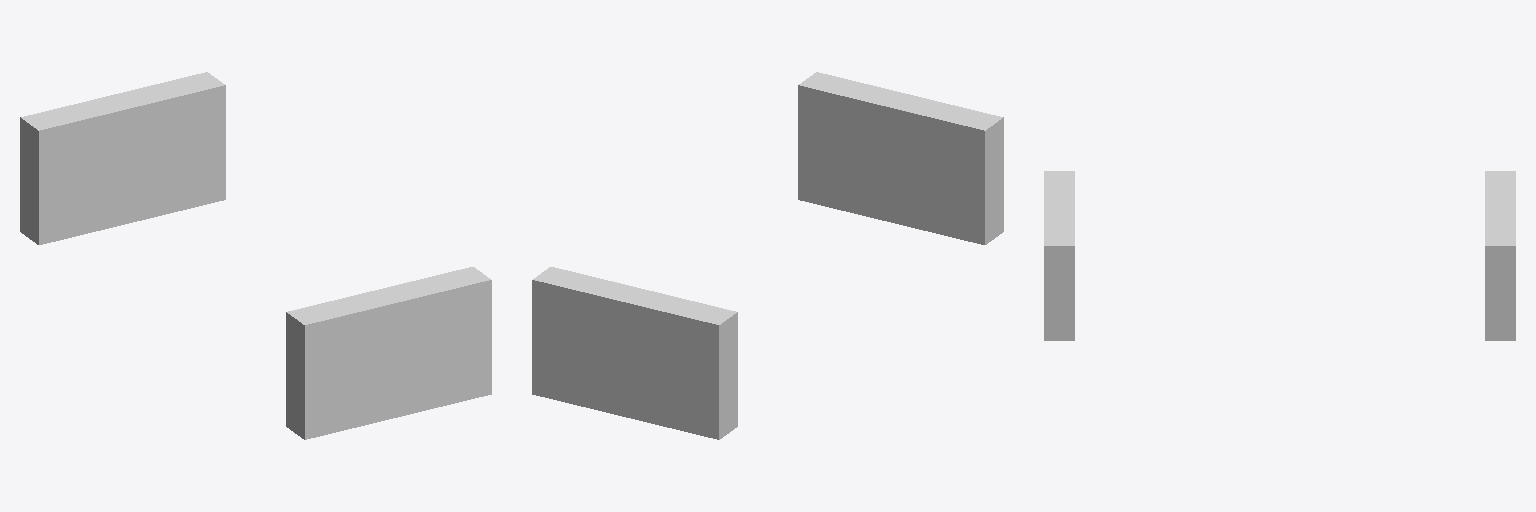
robot.urdf — panda:
<?xml version="1.0" ?>
<!-- =================================================================================== -->
<!-- |    This document was autogenerated by xacro from panda_arm.urdf.xacro           | -->
<!-- |    EDITING THIS FILE BY HAND IS NOT RECOMMENDED                                 | -->
<!-- =================================================================================== -->
<robot name="panda">
  <link name="panda_link0">
    <visual>
      <geometry>
        <mesh filename="franka_description/meshes/visual/link0.glb"/>
      </geometry>
    </visual>
    <collision>
      <geometry>
        <mesh filename="franka_description/meshes/collision/link0.stl"/>
      </geometry>
    </collision>
    <inertial>
      <origin rpy="0 0 0" xyz="-0.041018 -0.00014 0.049974"/>
      <mass value="0.629769"/>
      <inertia ixx="0.00315" ixy="8.2904e-07" ixz="0.00015" iyy="0.00388" iyz="8.2299e-06" izz="0.004285"/>
    </inertial>
  </link>
  <link name="panda_link1">
    <visual>
      <geometry>
        <mesh filename="franka_description/meshes/visual/link1.glb"/>
      </geometry>
    </visual>
    <collision>
      <geometry>
        <mesh filename="franka_description/meshes/collision/link1.stl"/>
      </geometry>
    </collision>
    <inertial>
      <origin rpy="0 0 0" xyz="0.003875 0.002081 -0.04762"/>
      <mass value="4.970684"/>
      <inertia ixx="0.70337" ixy="-0.000139" ixz="0.006772" iyy="0.70661" iyz="0.019169" izz="0.009117"/>
    </inertial>
  </link>
  <joint name="panda_joint1" type="revolute">
    <safety_controller k_position="100.0" k_velocity="40.0" soft_lower_limit="-2.8973" soft_upper_limit="2.8973"/>
    <origin rpy="0 0 0" xyz="0 0 0.333"/>
    <parent link="panda_link0"/>
    <child link="panda_link1"/>
    <axis xyz="0 0 1"/>
    <limit effort="87" lower="-2.8973" upper="2.8973" velocity="2.1750"/>
    <dynamics D="1" K="7000" damping="0.003" friction="0.0" mu_coulomb="0" mu_viscous="16"/>
  </joint>
  <link name="panda_link2">
    <visual>
      <geometry>
        <mesh filename="franka_description/meshes/visual/link2.glb"/>
      </geometry>
    </visual>
    <collision>
      <geometry>
        <mesh filename="franka_description/meshes/collision/link2.stl"/>
      </geometry>
    </collision>
    <inertial>
      <origin rpy="0 0 0" xyz="-0.003141 -0.02872  0.003495"/>
      <mass value="0.646926"/>
      <inertia ixx="0.007962" ixy="-0.003925" ixz="0.010254" iyy="0.02811" iyz="0.000704" izz="0.025995"/>
    </inertial>
  </link>
  <joint name="panda_joint2" type="revolute">
    <safety_controller k_position="100.0" k_velocity="40.0" soft_lower_limit="-1.7628" soft_upper_limit="1.7628"/>
    <origin rpy="-1.5707963267948966 0 0" xyz="0 0 0"/>
    <parent link="panda_link1"/>
    <child link="panda_link2"/>
    <axis xyz="0 0 1"/>
    <limit effort="87" lower="-1.7628" upper="1.7628" velocity="2.1750"/>
    <dynamics D="1" K="7000" damping="0.003" friction="0.0" mu_coulomb="0" mu_viscous="16"/>
  </joint>
  <link name="panda_link3">
    <visual>
      <geometry>
        <mesh filename="franka_description/meshes/visual/link3.glb"/>
      </geometry>
    </visual>
    <collision>
      <geometry>
        <mesh filename="franka_description/meshes/collision/link3.stl"/>
      </geometry>
    </collision>
    <inertial>
      <origin rpy="0 0 0" xyz="2.7518e-02 3.9252e-02 -6.6502e-02"/>
      <mass value="3.228604"/>
      <inertia ixx="0.037242" ixy="-0.004761" ixz="-0.011396" iyy="0.036155" iyz="-0.012805" izz="0.01083"/>
    </inertial>
  </link>
  <joint name="panda_joint3" type="revolute">
    <safety_controller k_position="100.0" k_velocity="40.0" soft_lower_limit="-2.8973" soft_upper_limit="2.8973"/>
    <origin rpy="1.5707963267948966 0 0" xyz="0 -0.316 0"/>
    <parent link="panda_link2"/>
    <child link="panda_link3"/>
    <axis xyz="0 0 1"/>
    <limit effort="87" lower="-2.8973" upper="2.8973" velocity="2.1750"/>
    <dynamics D="1" K="7000" damping="0.003" friction="0.0" mu_coulomb="0" mu_viscous="16"/>
  </joint>
  <link name="panda_link4">
    <visual>
      <geometry>
        <mesh filename="franka_description/meshes/visual/link4.glb"/>
      </geometry>
    </visual>
    <collision>
      <geometry>
        <mesh filename="franka_description/meshes/collision/link4.stl"/>
      </geometry>
    </collision>
    <inertial>
      <origin rpy="0 0 0" xyz="-5.317e-02 1.04419e-01 2.7454e-02"/>
      <mass value="3.587895"/>
      <inertia ixx="0.025853" ixy="0.007796" ixz="-0.001332" iyy="0.019552" iyz="0.008641" izz="0.028323"/>
    </inertial>
  </link>
  <joint name="panda_joint4" type="revolute">
    <safety_controller k_position="100.0" k_velocity="40.0" soft_lower_limit="-3.0718" soft_upper_limit="-0.0698"/>
    <origin rpy="1.5707963267948966 0 0" xyz="0.0825 0 0"/>
    <parent link="panda_link3"/>
    <child link="panda_link4"/>
    <axis xyz="0 0 1"/>
    <limit effort="87" lower="-3.0718" upper="-0.0698" velocity="2.1750"/>
    <dynamics D="1" K="7000" damping="0.003" friction="0.0" mu_coulomb="0" mu_viscous="16"/>
  </joint>
  <link name="panda_link5">
    <visual>
      <geometry>
        <mesh filename="franka_description/meshes/visual/link5.glb"/>
      </geometry>
    </visual>
    <collision>
      <geometry>
        <mesh filename="franka_description/meshes/collision/link5.stl"/>
      </geometry>
    </collision>
    <inertial>
      <origin rpy="0 0 0" xyz="-1.1953e-02 4.1065e-02 -3.8437e-02"/>
      <mass value="1.225946"/>
      <inertia ixx="0.035549" ixy="-0.002117" ixz="-0.004037" iyy="0.029474" iyz="0.000229" izz="0.008627"/>
    </inertial>
  </link>
  <joint name="panda_joint5" type="revolute">
    <safety_controller k_position="100.0" k_velocity="40.0" soft_lower_limit="-2.8973" soft_upper_limit="2.8973"/>
    <origin rpy="-1.5707963267948966 0 0" xyz="-0.0825 0.384 0"/>
    <parent link="panda_link4"/>
    <child link="panda_link5"/>
    <axis xyz="0 0 1"/>
    <limit effort="12" lower="-2.8973" upper="2.8973" velocity="2.6100"/>
    <dynamics D="1" K="7000" damping="0.003" friction="0.0" mu_coulomb="0" mu_viscous="16"/>
  </joint>
  <link name="panda_link6">
    <visual>
      <geometry>
        <mesh filename="franka_description/meshes/visual/link6.glb"/>
      </geometry>
    </visual>
    <collision>
      <geometry>
        <mesh filename="franka_description/meshes/collision/link6.stl"/>
      </geometry>
    </collision>
    <inertial>
      <origin rpy="0 0 0" xyz="6.0149e-02 -1.4117e-02 -1.0517e-02"/>
      <mass value="1.666555"/>
      <inertia ixx="0.001964" ixy="0.000109" ixz="-0.001158" iyy="0.004354" iyz="0.000341" izz="0.005433"/>
    </inertial>
  </link>
  <joint name="panda_joint6" type="revolute">
    <safety_controller k_position="100.0" k_velocity="40.0" soft_lower_limit="-0.0175" soft_upper_limit="3.7525"/>
    <origin rpy="1.5707963267948966 0 0" xyz="0 0 0"/>
    <parent link="panda_link5"/>
    <child link="panda_link6"/>
    <axis xyz="0 0 1"/>
    <limit effort="12" lower="-0.0175" upper="3.7525" velocity="2.6100"/>
    <dynamics D="1" K="7000" damping="0.003" friction="0.0" mu_coulomb="0" mu_viscous="16"/>
  </joint>
  <link name="panda_link7">
    <visual>
      <geometry>
        <mesh filename="franka_description/meshes/visual/link7.glb"/>
      </geometry>
    </visual>
    <collision>
      <geometry>
        <mesh filename="franka_description/meshes/collision/link7.stl"/>
      </geometry>
    </collision>
    <inertial>
      <origin rpy="0 0 0" xyz="1.0517e-02 -4.252e-03 6.1597e-02"/>
      <mass value="0.735522"/>
      <inertia ixx="0.012516" ixy="-0.000428" ixz="-0.001196" iyy="0.010027" iyz="-0.000741" izz="0.004815"/>
    </inertial>
  </link>
  <joint name="panda_joint7" type="revolute">
    <safety_controller k_position="100.0" k_velocity="40.0" soft_lower_limit="-2.8973" soft_upper_limit="2.8973"/>
    <origin rpy="1.5707963267948966 0 0" xyz="0.088 0 0"/>
    <parent link="panda_link6"/>
    <child link="panda_link7"/>
    <axis xyz="0 0 1"/>
    <limit effort="12" lower="-2.8973" upper="2.8973" velocity="2.6100"/>
    <dynamics D="1" K="7000" damping="0.003" friction="0.0" mu_coulomb="0" mu_viscous="16"/>
  </joint>

  <!-- ******************** Gripper ******************** -->
  <joint name="panda_joint_ee" type="fixed">
    <parent link="panda_link7" />
    <child link="panda_link_ee" />
    <origin rpy="0 0 0" xyz="0 0 0.045" />
  </joint>
  <link name="panda_link_ee">
    <inertial>
      <origin rpy="0 0 0" xyz="0 0 0" />
      <mass value="0" />
      <inertia ixx="0" ixy="0" ixz="0" iyy="0" iyz="0" izz="0" />
    </inertial>
  </link>
  <!-- Joint between Gripper and Robot -->
  <joint name="robot_to_gripper_joint" type="fixed">
    <origin rpy="0 0 0" xyz="0 0 0" />
    <parent link="panda_link_ee" />
    <child link="robotiq_arg2f_base_link" />
  </joint>
  <!-- Gripper -->
  <link name="robotiq_arg2f_base_link">
    <inertial>
      <origin rpy="0 0 0" xyz="8.625E-08 -4.6583E-06 0.03145"/>
      <mass value="0.22652"/>
      <inertia ixx="0.00020005" ixy="-4.2442E-10" ixz="-2.9069E-10" iyy="0.00017832" iyz="-3.4402E-08" izz="0.00013478"/>
    </inertial>
    <visual>
      <origin rpy="0 0 0" xyz="0 0 0"/>
      <geometry>
        <mesh filename="robotiq-2f/meshes/visual/robotiq_arg2f_85_base_link.dae" scale="0.001 0.001 0.001"/>
      </geometry>
      <material name="gray">
        <color rgba="0.1 0.1 0.1 1"/>
      </material>
    </visual>
    <collision>
      <origin rpy="0 0 0" xyz="0 0 0"/>
      <geometry>
        <mesh filename="robotiq-2f/meshes/collision/robotiq_arg2f_85_base_link.stl"/>
      </geometry>
    </collision>
  </link>
  <!-- Define the hand_tcp frame -->
  <link name="robotiq_hand_tcp" />
  <joint name="robotiq_hand_tcp_joint" type="fixed">
    <origin rpy="0 0 0" xyz="0 0 0.174" />
    <parent link="robotiq_arg2f_base_link" />
    <child link="robotiq_hand_tcp" />
  </joint>
  <link name="left_outer_knuckle">
    <!--<inertial>
        <origin xyz="-0.000200000000003065 0.0199435877845359 0.0292245259211331" rpy="0 0 0" />
        <mass value="0.00853198276973456" />
        <inertia ixx="2.89328108496468E-06" ixy="-1.57935047237397E-19" ixz="-1.93980378593255E-19" iyy="1.86719750325683E-06" iyz="-1.21858577871576E-06" izz="1.21905238907251E-06" />
        </inertial> -->
    <visual>
      <origin rpy="0 0 0" xyz="0 0 0"/>
      <geometry>
        <mesh filename="robotiq-2f/meshes/visual/robotiq_arg2f_85_outer_knuckle.dae" scale="0.001 0.001 0.001"/>
      </geometry>
      <material name="outer_knuckle">
        <color rgba="0.792156862745098 0.819607843137255 0.933333333333333 1"/>
      </material>
    </visual>
    <collision>
      <origin rpy="0 0 0" xyz="0 0 0"/>
      <geometry>
        <mesh filename="robotiq-2f/meshes/collision/robotiq_arg2f_85_outer_knuckle.dae" scale="0.001 0.001 0.001"/>
      </geometry>
    </collision>
  </link>
  <link name="left_outer_finger">
    <!--<inertial>
        <origin xyz="0.00030115855001899 0.0373907951953854 -0.0208027427000385" rpy="0 0 0" />
        <mass value="0.022614240507152" />
        <inertia ixx="1.52518312458174E-05" ixy="9.76583423954399E-10" ixz="-5.43838577022588E-10" iyy="6.17694243867776E-06" iyz="6.78636130740228E-06" izz="1.16494917907219E-05" />
        </inertial> -->
    <visual>
      <origin rpy="0 0 0" xyz="0 0 0"/>
      <geometry>
        <mesh filename="robotiq-2f/meshes/visual/robotiq_arg2f_85_outer_finger.dae" scale="0.001 0.001 0.001"/>
      </geometry>
      <material name="gray">
        <color rgba="0.1 0.1 0.1 1"/>
      </material>
    </visual>
    <collision>
      <origin rpy="0 0 0" xyz="0 0 0"/>
      <geometry>
        <mesh filename="robotiq-2f/meshes/collision/robotiq_arg2f_85_outer_finger.dae" scale="0.001 0.001 0.001"/>
      </geometry>
    </collision>
  </link>
  <link name="left_inner_finger">
    <!--<inertial>
        <origin xyz="0.000299999999999317 0.0160078233491243 -0.0136945669206257" rpy="0 0 0" />
        <mass value="0.0104003125914103" />
        <inertia ixx="2.71909453810972E-06" ixy="1.35402465472579E-21" ixz="-7.1817349065269E-22" iyy="7.69100314106116E-07" iyz="6.74715432769696E-07" izz="2.30315190420171E-06" />
        </inertial> -->
    <visual>
      <origin rpy="0 0 0" xyz="0 0 0"/>
      <geometry>
        <mesh filename="robotiq-2f/meshes/visual/robotiq_arg2f_85_inner_finger.dae" scale="0.001 0.001 0.001"/>
      </geometry>
      <material name="gray">
        <color rgba="0.1 0.1 0.1 1"/>
      </material>
    </visual>
    <collision>
      <origin rpy="0 0 0" xyz="0 0 0"/>
      <geometry>
        <mesh filename="robotiq-2f/meshes/collision/robotiq_arg2f_85_inner_finger.dae" scale="0.001 0.001 0.001"/>
      </geometry>
    </collision>
  </link>
  <link name="left_inner_finger_pad">
    <visual>
      <origin rpy="0 0 0" xyz="0 0 0"/>
      <geometry>
        <box size="0.022 0.00635 0.0375"/>
      </geometry>
      <material name="white">
        <color rgba="0.9 0.9 0.9 1"/>
      </material>
    </visual>
    <collision>
      <origin rpy="0 0 0" xyz="0 0 0"/>
      <geometry>
        <box size="0.022 0.00635 0.0375"/>
      </geometry>
    </collision>
  </link>
  <link name="left_inner_knuckle">
    <!--<inertial>
        <origin xyz="0.000123011831763771 0.0507850843201817 0.00103968640075166" rpy="0 0 0" />
       <mass value="0.0271177346495152" />
        <inertia ixx="2.61910379223783E-05" ixy="-2.43616858946494E-07" ixz="-6.37789906117123E-09" iyy="2.8270243746167E-06" iyz="-5.37200748039765E-07" izz="2.83695868220296E-05" />
        </inertial> -->
    <visual>
      <origin rpy="0 0 0" xyz="0 0 0"/>
      <geometry>
        <mesh filename="robotiq-2f/meshes/visual/robotiq_arg2f_85_inner_knuckle.dae" scale="0.001 0.001 0.001"/>
      </geometry>
      <material name="gray">
        <color rgba="0.1 0.1 0.1 1"/>
      </material>
    </visual>
    <collision>
      <origin rpy="0 0 0" xyz="0 0 0"/>
      <geometry>
        <mesh filename="robotiq-2f/meshes/collision/robotiq_arg2f_85_inner_knuckle.dae" scale="0.001 0.001 0.001"/>
      </geometry>
    </collision>
  </link>
  <link name="right_outer_knuckle">
    <!--<inertial>
        <origin xyz="-0.000200000000003065 0.0199435877845359 0.0292245259211331" rpy="0 0 0" />
        <mass value="0.00853198276973456" />
        <inertia ixx="2.89328108496468E-06" ixy="-1.57935047237397E-19" ixz="-1.93980378593255E-19" iyy="1.86719750325683E-06" iyz="-1.21858577871576E-06" izz="1.21905238907251E-06" />
        </inertial> -->
    <visual>
      <origin rpy="0 0 0" xyz="0 0 0"/>
      <geometry>
        <mesh filename="robotiq-2f/meshes/visual/robotiq_arg2f_85_outer_knuckle.dae" scale="0.001 0.001 0.001"/>
      </geometry>
      <material name="">
        <color rgba="0.792156862745098 0.819607843137255 0.933333333333333 1"/>
      </material>
    </visual>
    <collision>
      <origin rpy="0 0 0" xyz="0 0 0"/>
      <geometry>
        <mesh filename="robotiq-2f/meshes/collision/robotiq_arg2f_85_outer_knuckle.dae" scale="0.001 0.001 0.001"/>
      </geometry>
    </collision>
  </link>
  <link name="right_outer_finger">
    <!--<inertial>
        <origin xyz="0.00030115855001899 0.0373907951953854 -0.0208027427000385" rpy="0 0 0" />
        <mass value="0.022614240507152" />
        <inertia ixx="1.52518312458174E-05" ixy="9.76583423954399E-10" ixz="-5.43838577022588E-10" iyy="6.17694243867776E-06" iyz="6.78636130740228E-06" izz="1.16494917907219E-05" />
        </inertial> -->
    <visual>
      <origin rpy="0 0 0" xyz="0 0 0"/>
      <geometry>
        <mesh filename="robotiq-2f/meshes/visual/robotiq_arg2f_85_outer_finger.dae" scale="0.001 0.001 0.001"/>
      </geometry>
      <material name="gray">
        <color rgba="0.1 0.1 0.1 1"/>
      </material>
    </visual>
    <collision>
      <origin rpy="0 0 0" xyz="0 0 0"/>
      <geometry>
        <mesh filename="robotiq-2f/meshes/collision/robotiq_arg2f_85_outer_finger.dae" scale="0.001 0.001 0.001"/>
      </geometry>
    </collision>
  </link>
  <link name="right_inner_finger">
    <!--<inertial>
        <origin xyz="0.000299999999999317 0.0160078233491243 -0.0136945669206257" rpy="0 0 0" />
        <mass value="0.0104003125914103" />
        <inertia ixx="2.71909453810972E-06" ixy="1.35402465472579E-21" ixz="-7.1817349065269E-22" iyy="7.69100314106116E-07" iyz="6.74715432769696E-07" izz="2.30315190420171E-06" />
        </inertial> -->
    <visual>
      <origin rpy="0 0 0" xyz="0 0 0"/>
      <geometry>
        <mesh filename="robotiq-2f/meshes/visual/robotiq_arg2f_85_inner_finger.dae" scale="0.001 0.001 0.001"/>
      </geometry>
      <material name="gray">
        <color rgba="0.1 0.1 0.1 1"/>
      </material>
    </visual>
    <collision>
      <origin rpy="0 0 0" xyz="0 0 0"/>
      <geometry>
        <mesh filename="robotiq-2f/meshes/collision/robotiq_arg2f_85_inner_finger.dae" scale="0.001 0.001 0.001"/>
      </geometry>
    </collision>
  </link>
  <link name="right_inner_finger_pad">
    <visual>
      <origin rpy="0 0 0" xyz="0 0 0"/>
      <geometry>
        <box size="0.022 0.00635 0.0375"/>
      </geometry>
      <material name="white">
        <color rgba="0.9 0.9 0.9 1"/>
      </material>
    </visual>
    <collision>
      <origin rpy="0 0 0" xyz="0 0 0"/>
      <geometry>
        <box size="0.022 0.00635 0.0375"/>
      </geometry>
    </collision>
  </link>
  <link name="right_inner_knuckle">
    <!--<inertial>
        <origin xyz="0.000123011831763771 0.0507850843201817 0.00103968640075166" rpy="0 0 0" />
       <mass value="0.0271177346495152" />
        <inertia ixx="2.61910379223783E-05" ixy="-2.43616858946494E-07" ixz="-6.37789906117123E-09" iyy="2.8270243746167E-06" iyz="-5.37200748039765E-07" izz="2.83695868220296E-05" />
        </inertial> -->
    <visual>
      <origin rpy="0 0 0" xyz="0 0 0"/>
      <geometry>
        <mesh filename="robotiq-2f/meshes/visual/robotiq_arg2f_85_inner_knuckle.dae" scale="0.001 0.001 0.001"/>
      </geometry>
      <material name="gray">
        <color rgba="0.1 0.1 0.1 1"/>
      </material>
    </visual>
    <collision>
      <origin rpy="0 0 0" xyz="0 0 0"/>
      <geometry>
        <mesh filename="robotiq-2f/meshes/collision/robotiq_arg2f_85_inner_knuckle.dae" scale="0.001 0.001 0.001"/>
      </geometry>
    </collision>
  </link>
  <joint name="left_outer_knuckle_joint" type="revolute">
    <origin rpy="0 0 3.14159265359" xyz="0 -0.0306011 0.054904"/>
    <parent link="robotiq_arg2f_base_link"/>
    <child link="left_outer_knuckle"/>
    <axis xyz="1 0 0"/>
    <limit effort="1000" lower="0" upper="0.81" velocity="2.0"/>
  </joint>
  <joint name="left_outer_finger_joint" type="fixed">
    <origin rpy="0 0 0" xyz="0 0.0315 -0.0041"/>
    <parent link="left_outer_knuckle"/>
    <child link="left_outer_finger"/>
    <axis xyz="1 0 0"/>
  </joint>
  <joint name="left_inner_knuckle_joint" type="revolute">
    <origin rpy="0 0 3.14159265359" xyz="0 -0.0127 0.06142"/>
    <parent link="robotiq_arg2f_base_link"/>
    <child link="left_inner_knuckle"/>
    <axis xyz="1 0 0"/>
    <limit effort="1000" lower="0" upper="0.8757" velocity="2.0"/>
  </joint>
  <joint name="left_inner_finger_joint" type="revolute">
    <origin rpy="0 0 0" xyz="0 0.0061 0.0471"/>
    <parent link="left_outer_finger"/>
    <child link="left_inner_finger"/>
    <axis xyz="1 0 0"/>
    <limit effort="1000" lower="-0.8757" upper="0" velocity="2.0"/>
  </joint>
  <joint name="left_inner_finger_pad_joint" type="fixed">
    <origin rpy="0 0 0" xyz="0 -0.0220203446692936 0.03242"/>
    <parent link="left_inner_finger"/>
    <child link="left_inner_finger_pad"/>
    <axis xyz="0 0 1"/>
  </joint>
  <joint name="right_outer_knuckle_joint" type="revolute">
    <origin rpy="0 0 0" xyz="0 0.0306011 0.054904"/>
    <parent link="robotiq_arg2f_base_link"/>
    <child link="right_outer_knuckle"/>
    <axis xyz="1 0 0"/>
    <limit effort="1000" lower="0" upper="0.81" velocity="2.0"/>
  </joint>
  <joint name="right_outer_finger_joint" type="fixed">
    <origin rpy="0 0 0" xyz="0 0.0315 -0.0041"/>
    <parent link="right_outer_knuckle"/>
    <child link="right_outer_finger"/>
    <axis xyz="1 0 0"/>
  </joint>
  <joint name="right_inner_knuckle_joint" type="revolute">
    <origin rpy="0 0 0.0" xyz="0 0.0127 0.06142"/>
    <parent link="robotiq_arg2f_base_link"/>
    <child link="right_inner_knuckle"/>
    <axis xyz="1 0 0"/>
    <limit effort="1000" lower="0" upper="0.8757" velocity="2.0"/>
  </joint>
  <joint name="right_inner_finger_joint" type="revolute">
    <origin rpy="0 0 0" xyz="0 0.0061 0.0471"/>
    <parent link="right_outer_finger"/>
    <child link="right_inner_finger"/>
    <axis xyz="1 0 0"/>
    <limit effort="1000" lower="-0.8757" upper="0" velocity="2.0"/>
  </joint>
  <joint name="right_inner_finger_pad_joint" type="fixed">
    <origin rpy="0 0 0" xyz="0 -0.0220203446692936 0.03242"/>
    <parent link="right_inner_finger"/>
    <child link="right_inner_finger_pad"/>
    <axis xyz="0 0 1"/>
  </joint>
</robot>

--- Facts derived from the render (not from the file) ---
Views: 3 orthographic renders of the robot side by side, from view 1: azimuth 30°, elevation 25°; view 2: azimuth 150°, elevation 25°; view 3: azimuth 270°, elevation 25°.
Model panda with 21 links and 20 joints (13 revolute, 7 fixed), rooted at panda_link0, posed all joints at 0 but 1 set to mid-range because 0 is outside their limits (panda_joint4 = -1.57).
Links seen in each view (by area): view 1: left_inner_finger_pad, right_inner_finger_pad; view 2: left_inner_finger_pad, right_inner_finger_pad; view 3: left_inner_finger_pad, right_inner_finger_pad.
Link boxes in pixels (bbox=[...]): left_inner_finger_pad: bbox=[20, 72, 225, 244]; right_inner_finger_pad: bbox=[286, 267, 491, 439]; left_inner_finger_pad: bbox=[532, 267, 737, 439]; right_inner_finger_pad: bbox=[798, 72, 1003, 244]; left_inner_finger_pad: bbox=[1485, 171, 1515, 340]; right_inner_finger_pad: bbox=[1044, 171, 1074, 340].
Size in the robot's own frame: 0.0375 by 0.0987 by 0.022 metres.
Meshes: 13 distinct files referenced, 0 mesh visuals loaded (none loaded); not drawn: 17 (reference not matched to a file when rendering).